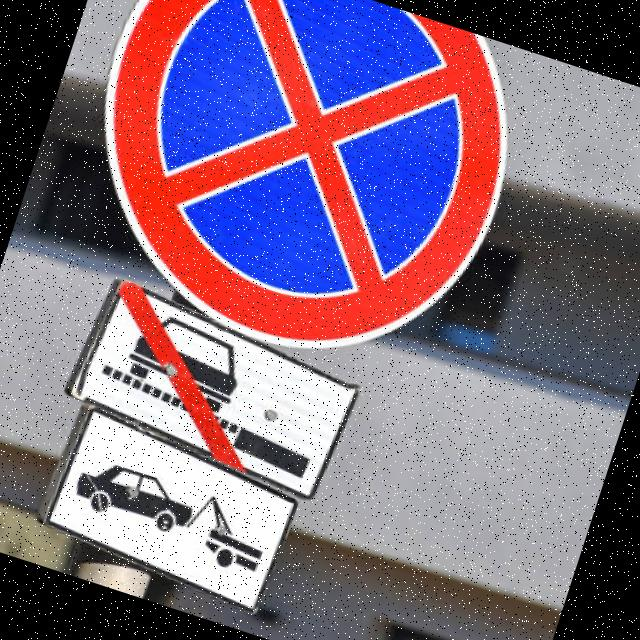no_parking: (40, 0, 563, 401)
